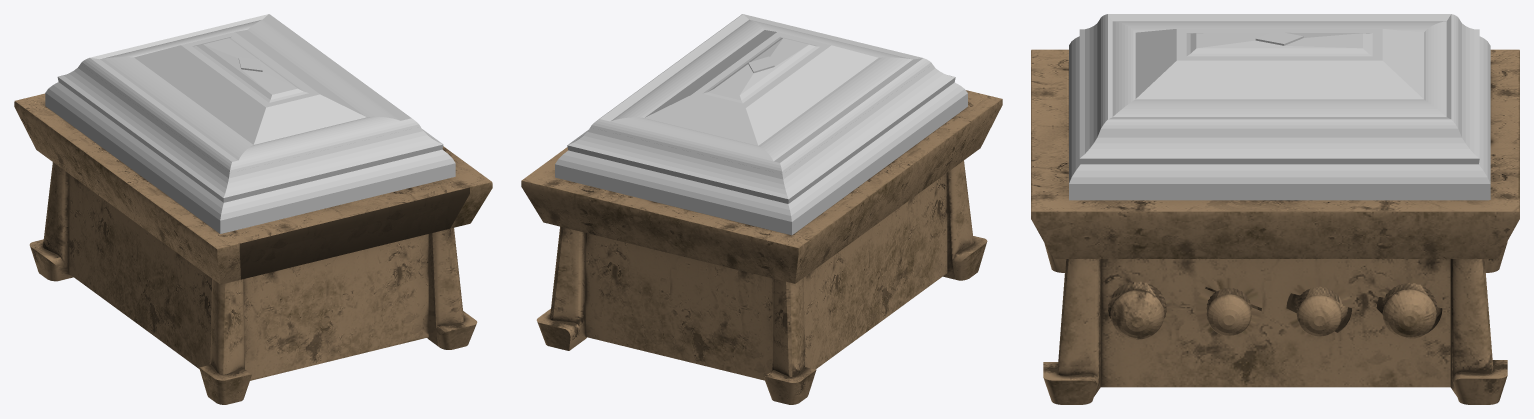
The model's file is Chests.fbx.
The picture shows the model from 3 angles, left to right: view 1: azimuth 30°, elevation 25°; view 2: azimuth 150°, elevation 25°; view 3: azimuth 270°, elevation 25°; orthographic projection. The views are drawn at different scales.
Parts seen in each view (by area): view 1: LargeChest, LargeChestLid; view 2: LargeChest, LargeChestLid; view 3: LargeChest, LargeChestLid.
Boxes of the visible parts, x1,y1,x2,y2 form: LargeChest: (14, 93, 492, 404); LargeChestLid: (45, 14, 455, 233); LargeChest: (521, 90, 1002, 404); LargeChestLid: (555, 14, 967, 235); LargeChest: (1031, 49, 1519, 404); LargeChestLid: (1069, 14, 1490, 200).
Bounding box in the file's own units: 194 × 163 × 247.
